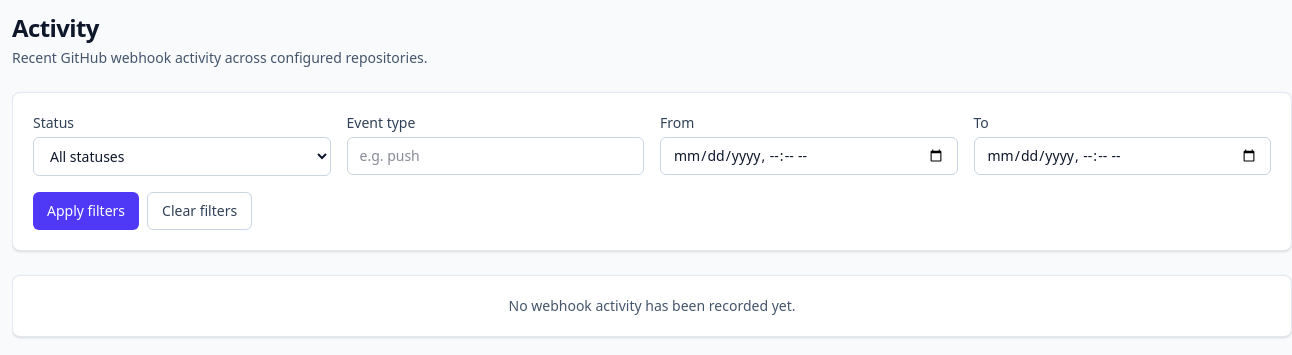
Test case: ActivityPage › distinguishes an empty feed from an empty filtered result
The width and height of the screenshot is (1292, 355).
Check: the text "No webhook activity has been recorded yet." is shown, box [12,275,1291,337]
Select "Failed" in the dropdown labelled "Status" at (182, 156), box [33,137,330,176]
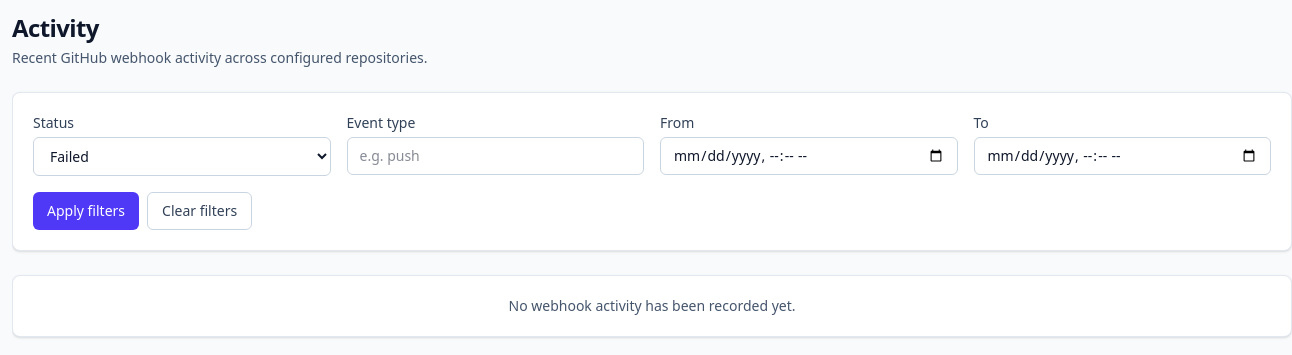
Click the button "Apply filters" at (86, 211), box [33,192,139,230]
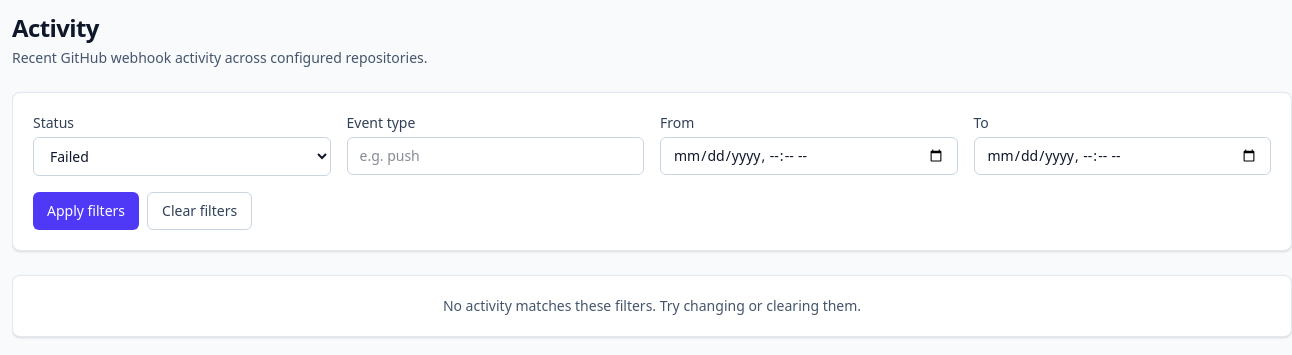
Check: the text "No activity matches these filters. Try changing or clearing them." is shown, box [12,275,1291,337]
